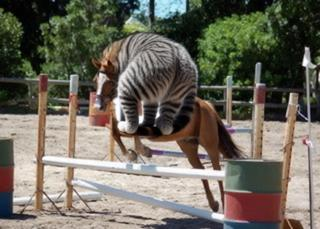cat: (112, 32, 199, 135)
horse: (87, 40, 247, 216)
